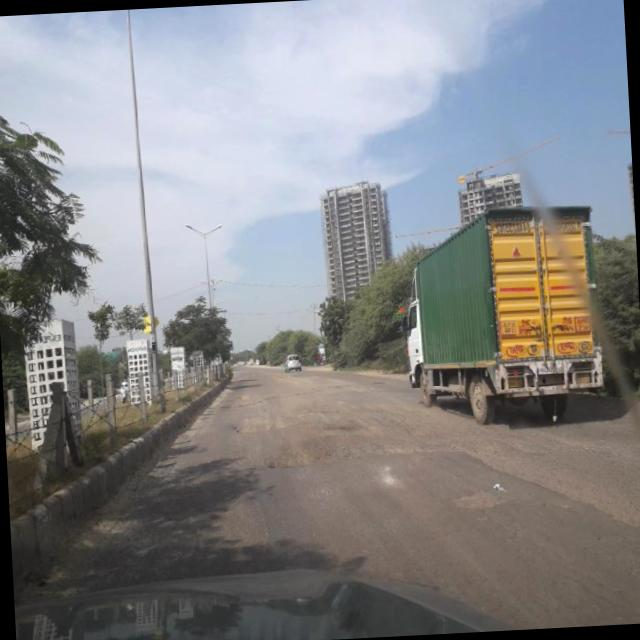crack: (222, 470, 290, 559)
pothole: (265, 430, 464, 470), (501, 418, 613, 474), (291, 399, 418, 432), (216, 402, 288, 438), (456, 478, 508, 526)
